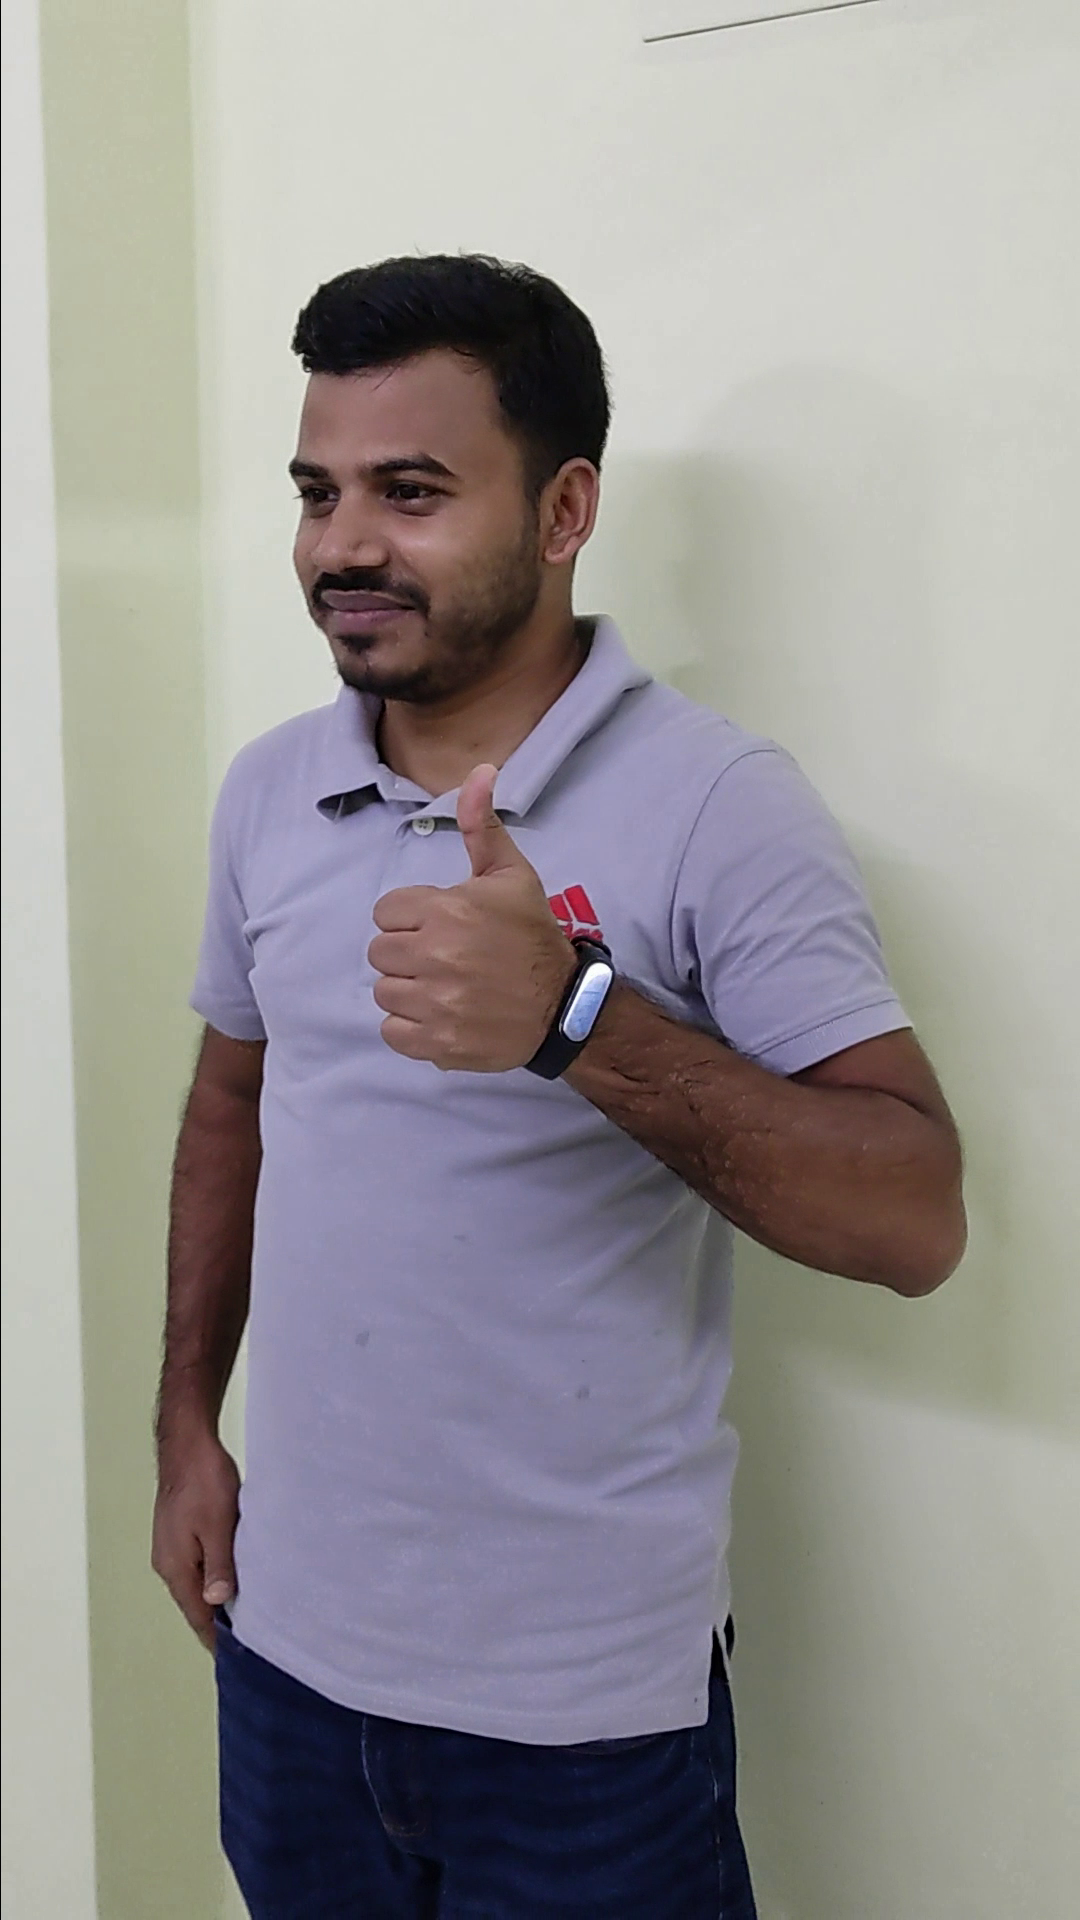Like: (357, 752, 597, 1088)
None: (119, 1389, 266, 1683)
